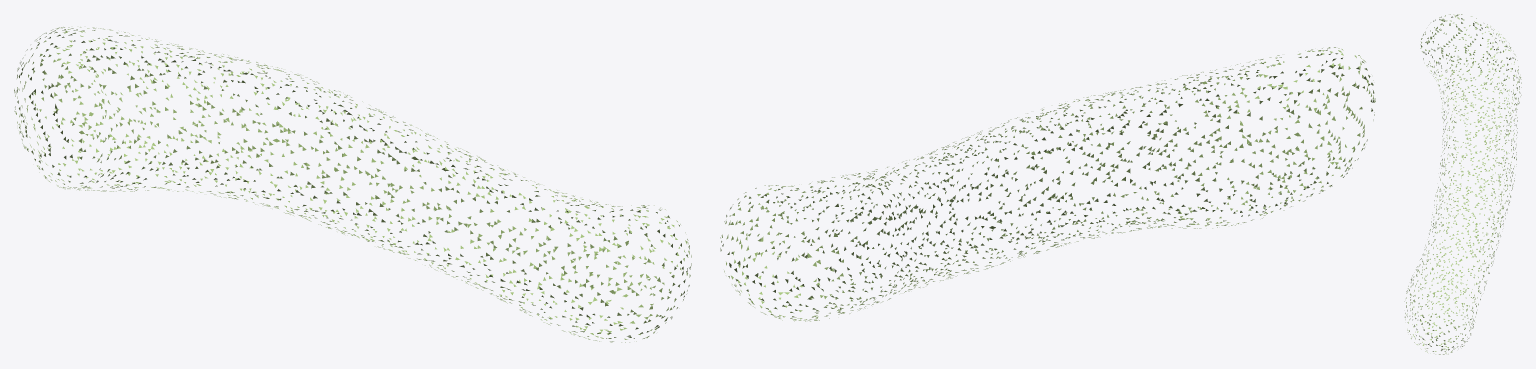
File: morph_012.glb
3 views of the same model, side by side, from view 1: azimuth 30°, elevation 25°; view 2: azimuth 150°, elevation 25°; view 3: azimuth 270°, elevation 25° (orthographic). The views are drawn at different scales.
Bounding box in the file's own units: 112 × 69.45 × 36.36.
